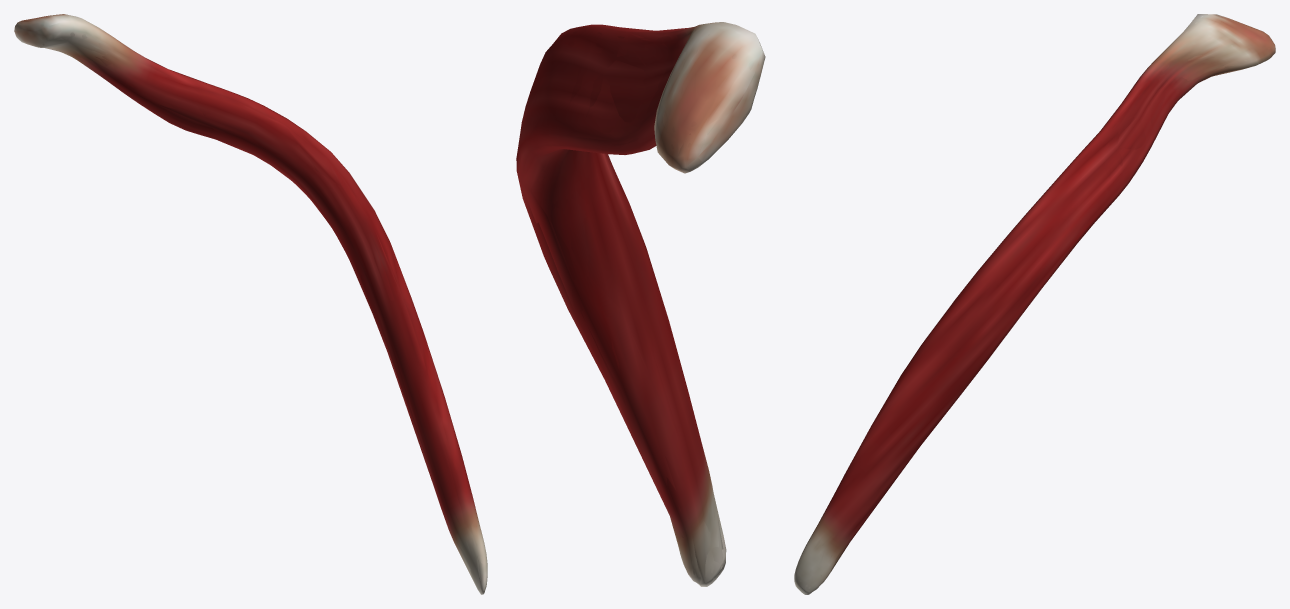
The model's file is L Caudofemoralis.fbx.
3 renders of one model, left to right at view 1: azimuth 30°, elevation 25°; view 2: azimuth 150°, elevation 25°; view 3: azimuth 270°, elevation 25°, orthographic. The views are drawn at different scales.
Parts seen in each view (by area): view 1: L Caudofemoralis, L Caudofemoralis low, L Caudofemoralis high; view 2: L Caudofemoralis, L Caudofemoralis low, L Caudofemoralis high; view 3: L Caudofemoralis, L Caudofemoralis low, L Caudofemoralis high.
Boxes of the visible parts, x1,y1,x2,y2 form: L Caudofemoralis: (14,14,487,594); L Caudofemoralis low: (17,14,486,591); L Caudofemoralis high: (24,15,485,590); L Caudofemoralis: (516,22,765,586); L Caudofemoralis low: (516,23,763,586); L Caudofemoralis high: (520,23,753,583); L Caudofemoralis: (794,14,1275,594); L Caudofemoralis low: (794,14,1275,592); L Caudofemoralis high: (797,16,1272,593).
Size of the model in its own units: 3.41 by 6.54 by 6.01.
